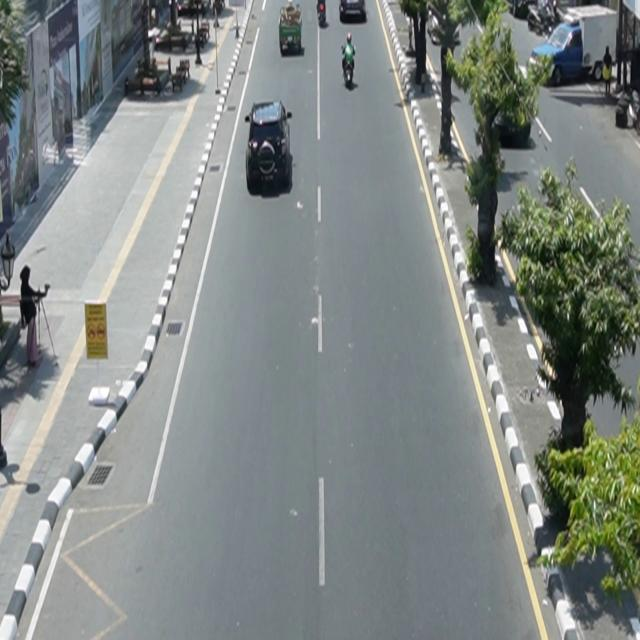car: (245, 100, 293, 191), (340, 1, 367, 23)
